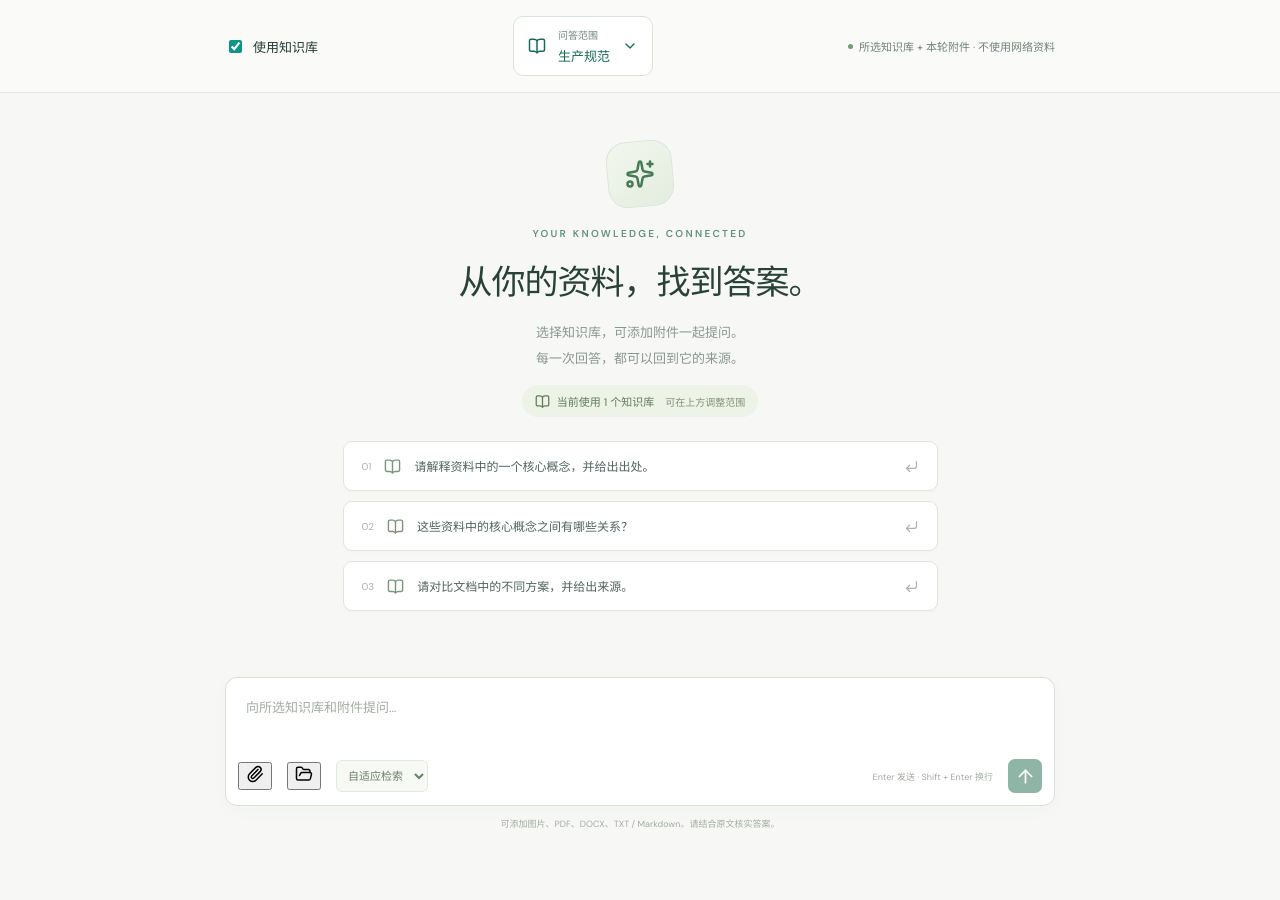
Test: new conversation inherits a library shortcut and includes scope in create and stream requests
Expected: the button "问答范围 生产规范" is shown, [513, 16, 653, 76]
In the text box named "输入问题": (640, 714) [226, 678, 1054, 750], type "规范要求"
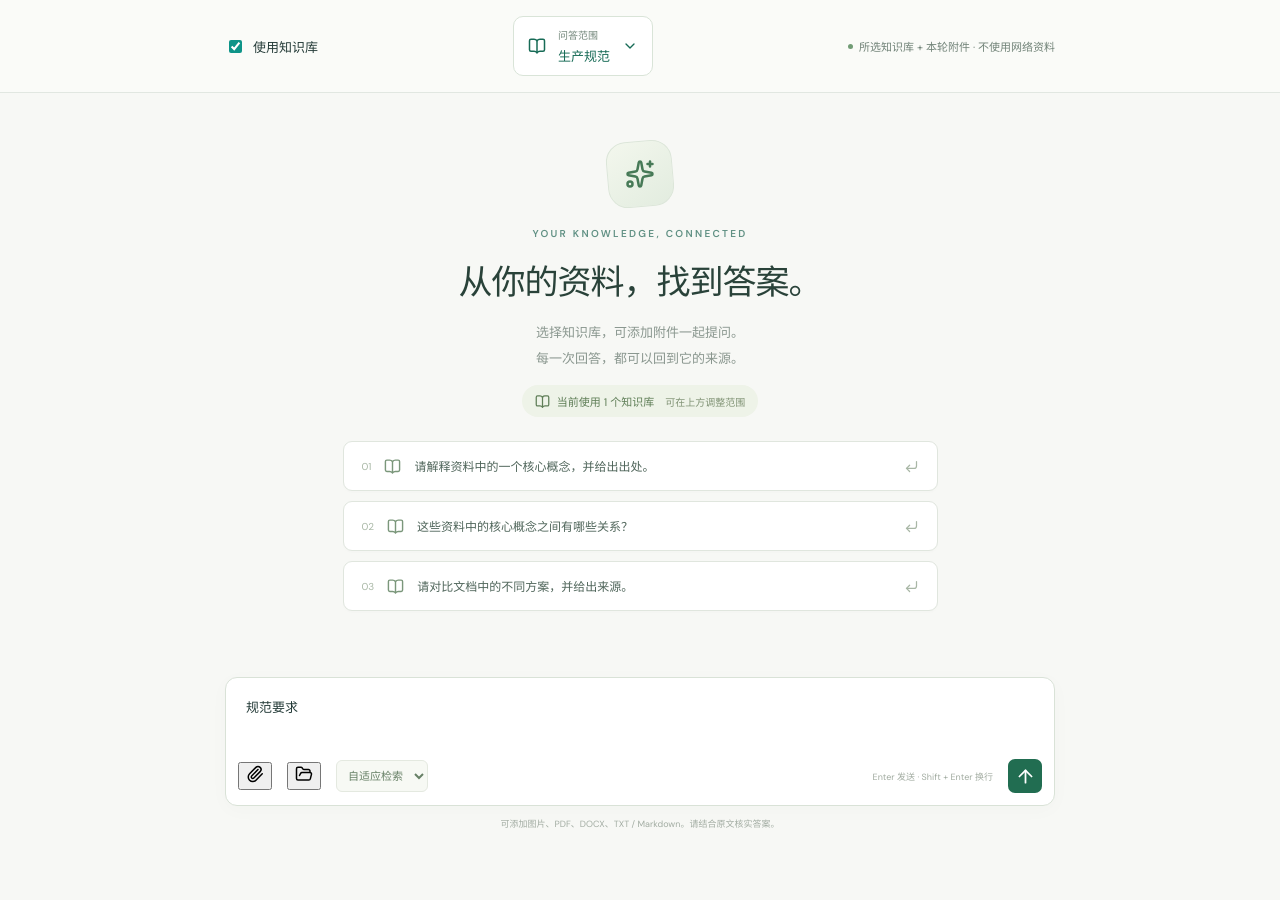
Click the button named "发送问题": (1025, 776) [1008, 759, 1042, 793]
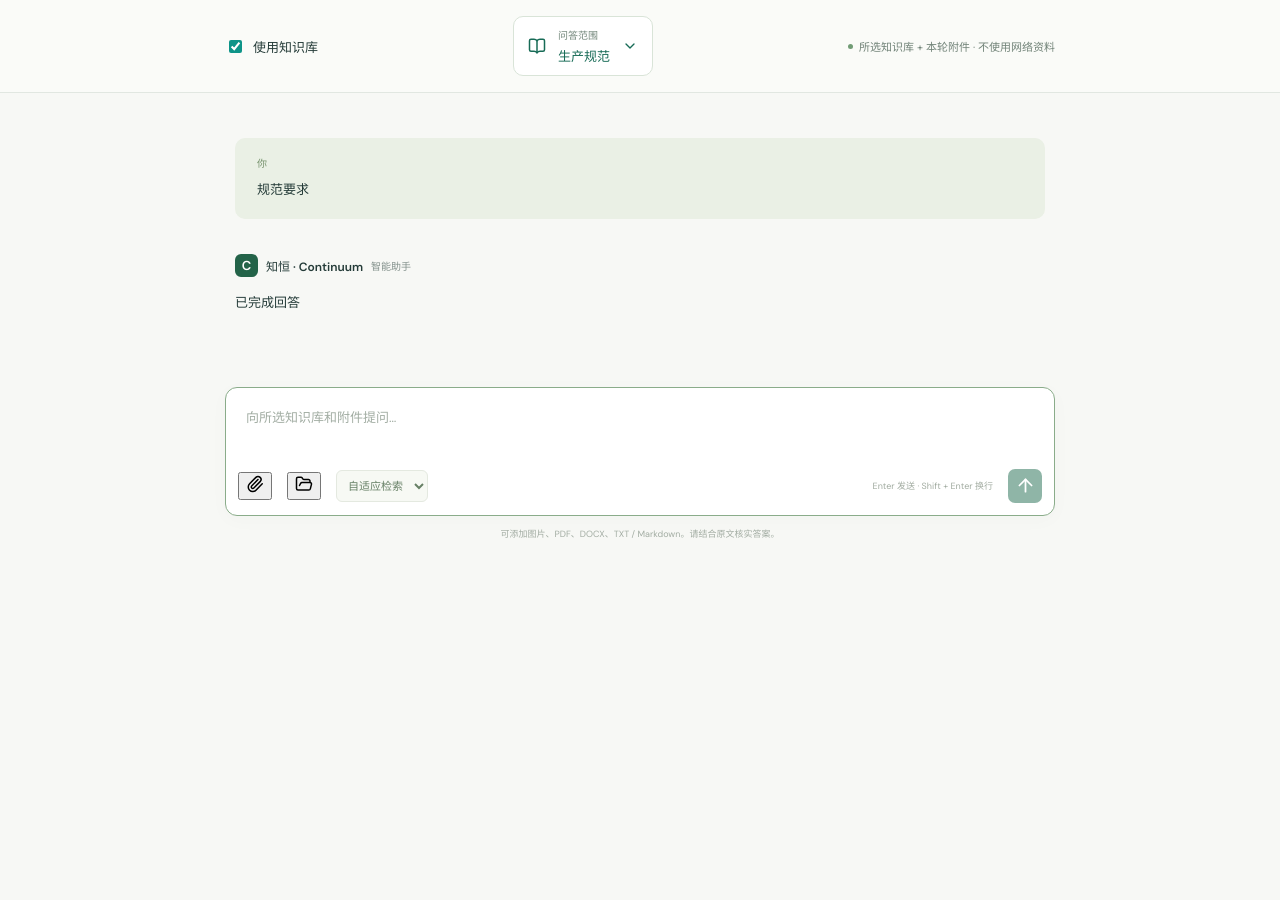
Expected: the text "已完成回答" is shown, [235, 294, 300, 311]
